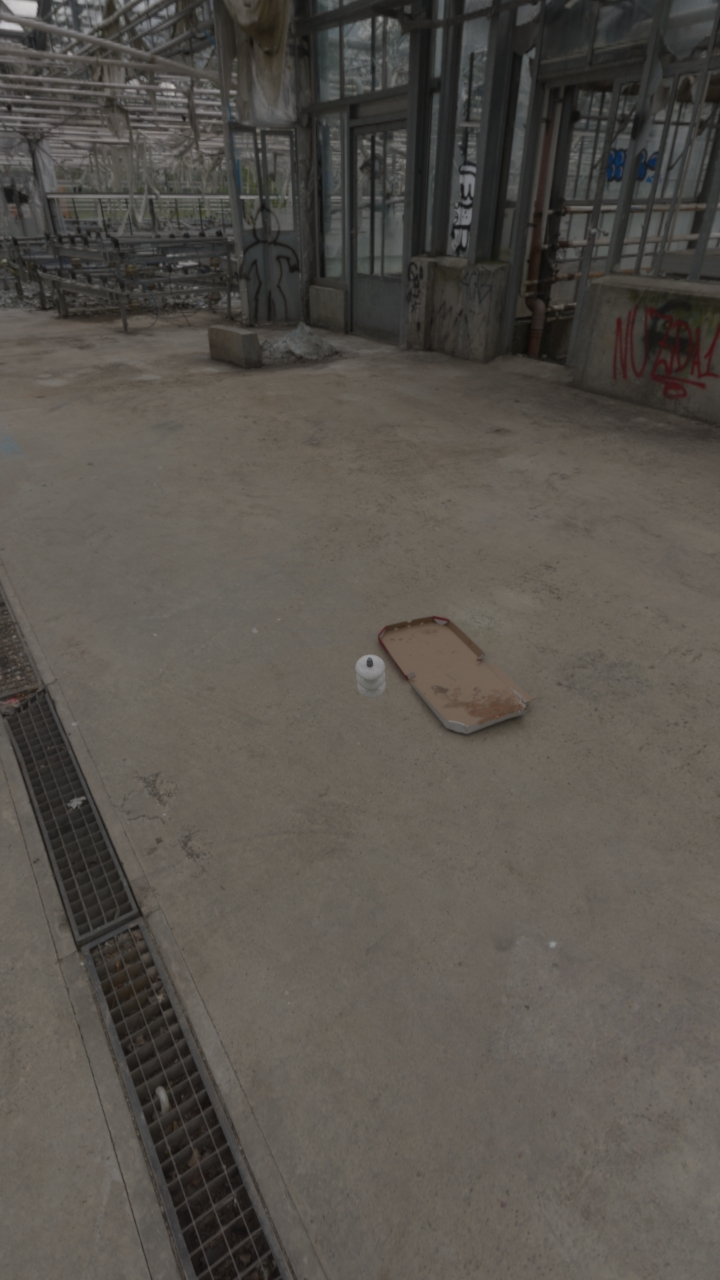ceramicinsulators: (355, 655, 386, 699)
